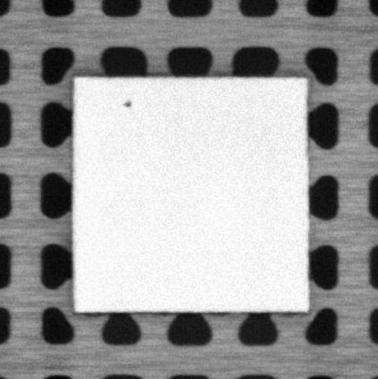DIE_INK: (122, 97, 134, 108)
